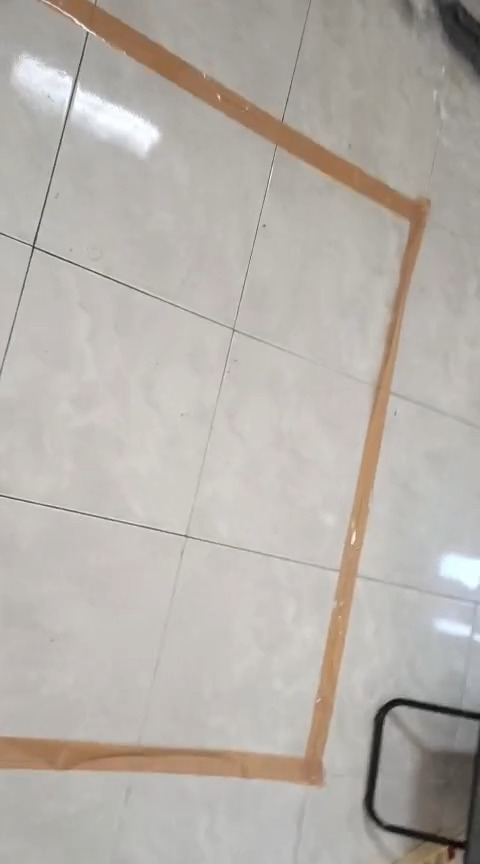floor marking: (47, 0, 429, 616), (0, 615, 344, 784)
